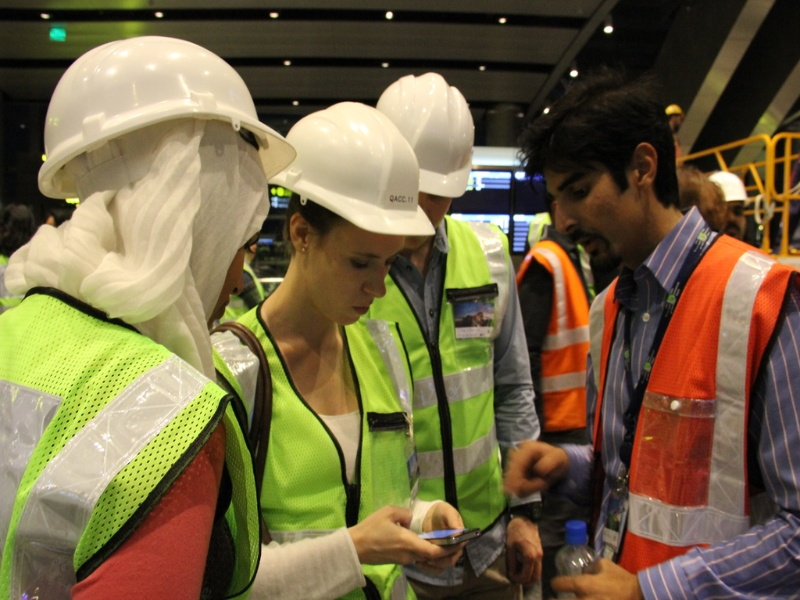Baret: (40, 33, 285, 168), (279, 102, 436, 237), (382, 73, 473, 199)
